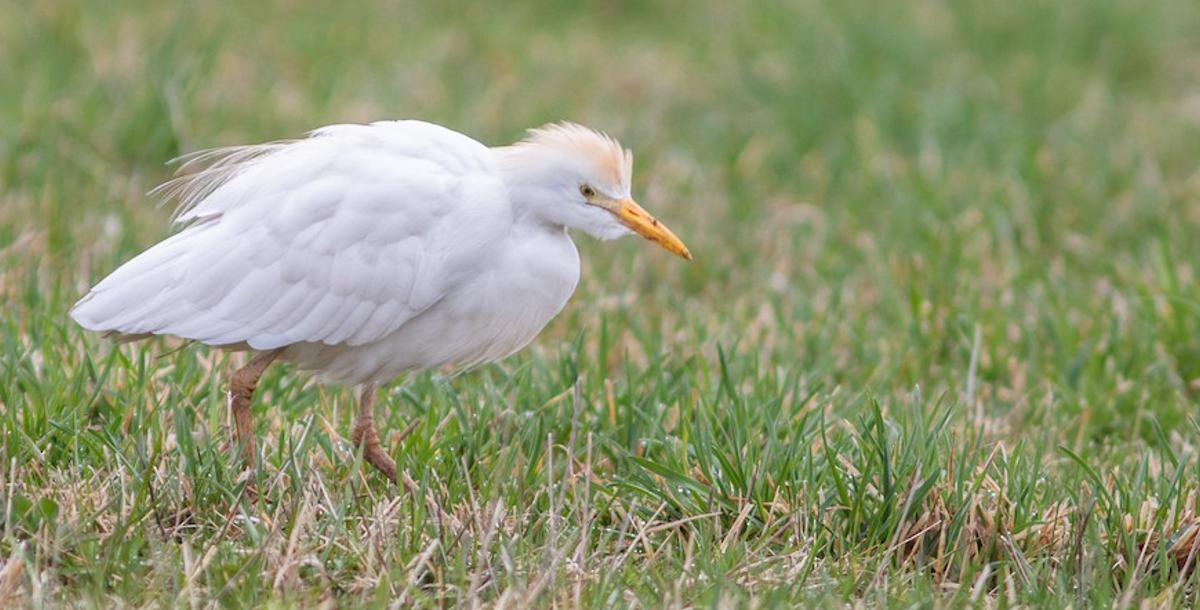egret: (103, 95, 696, 505)
